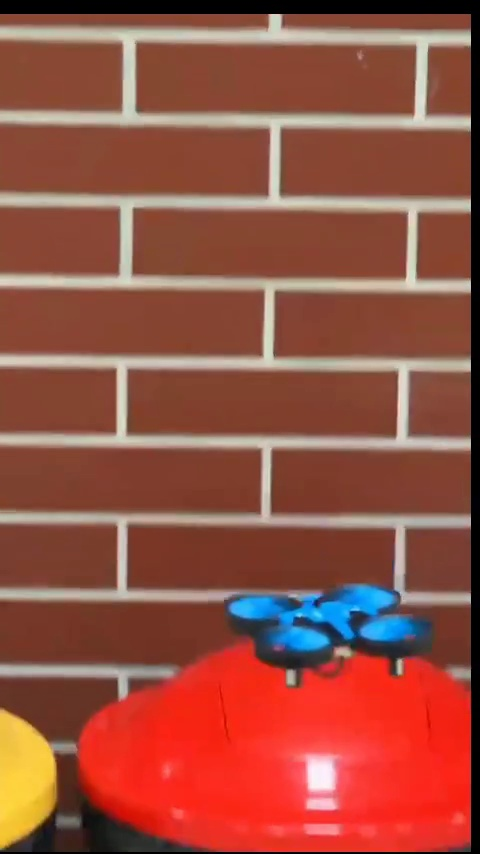drone: (224, 579, 431, 682)
